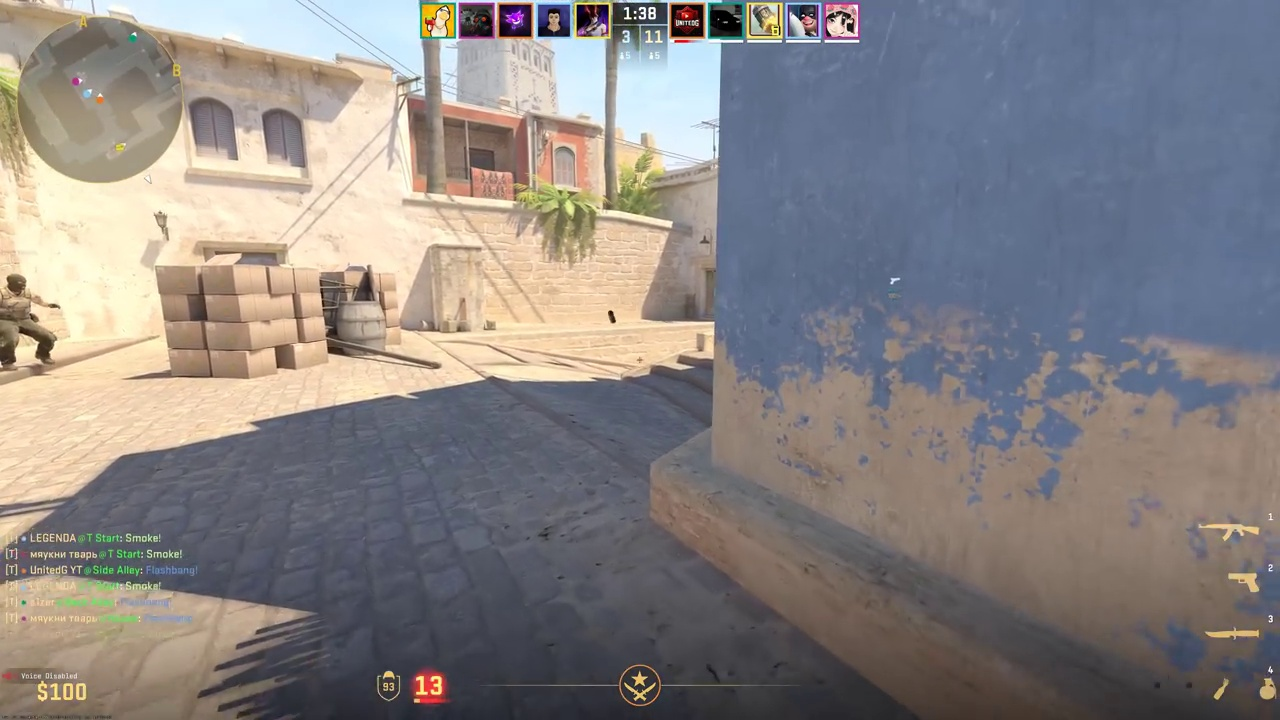Terrorist: (0, 274, 47, 371)
